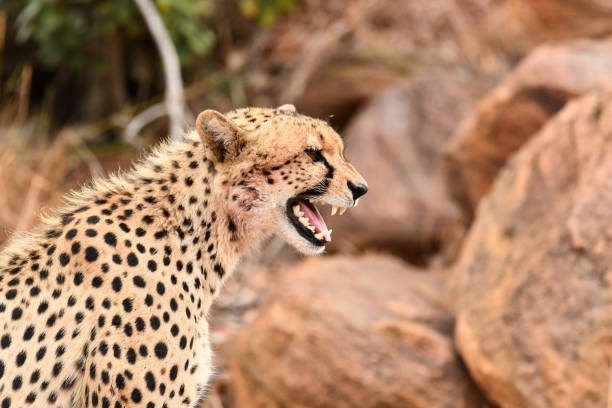cheetah: (188, 93, 380, 274)
